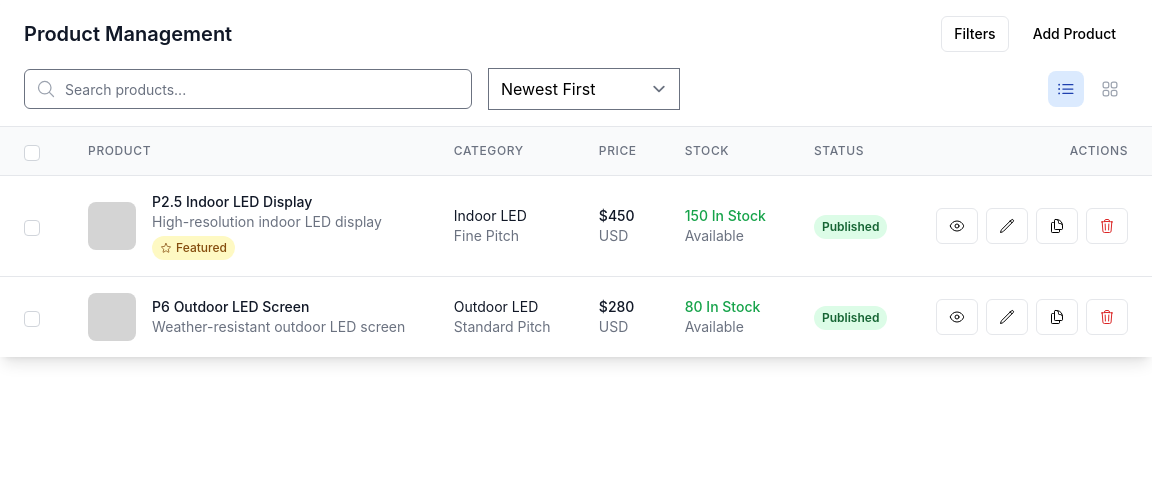
Test: ProductManagement › filters products by search term
The image size is (1152, 477).
// Search for a specific product
Type "P2.5" into the field with placeholder "Search products..." at (248, 89), box [24,69,472,109]
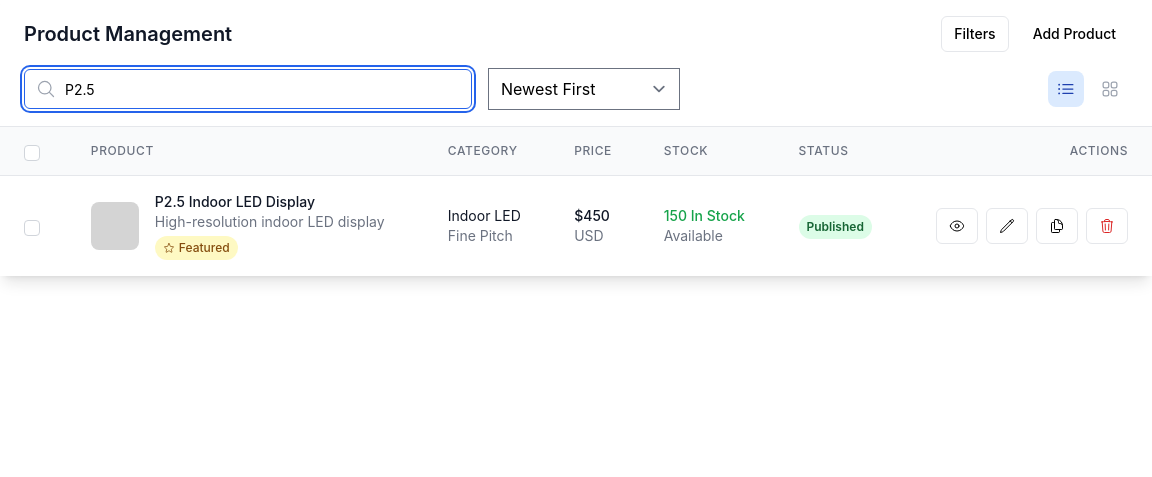
Expected: the text "P2.5 Indoor LED Display" is shown, [155,193,315,210]
Now the text "P6 Outdoor LED Screen" is gone
// Search for non-existent product
Replace the text in the field with placeholder "Search products..." with "NonExistent" at (248, 89), box [24,69,472,109]
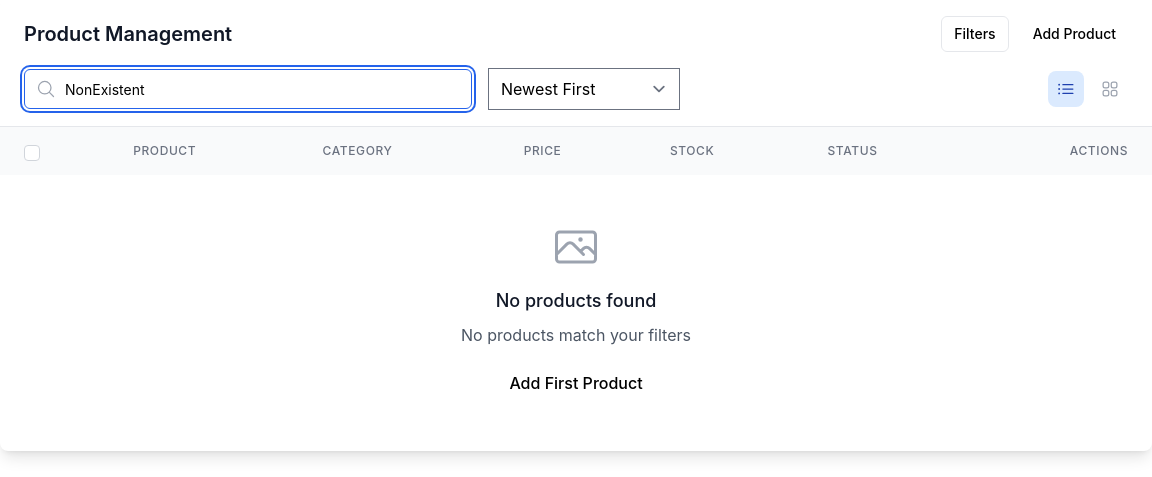
Now the heading "No products found" is shown, box [496,290,656,311]
